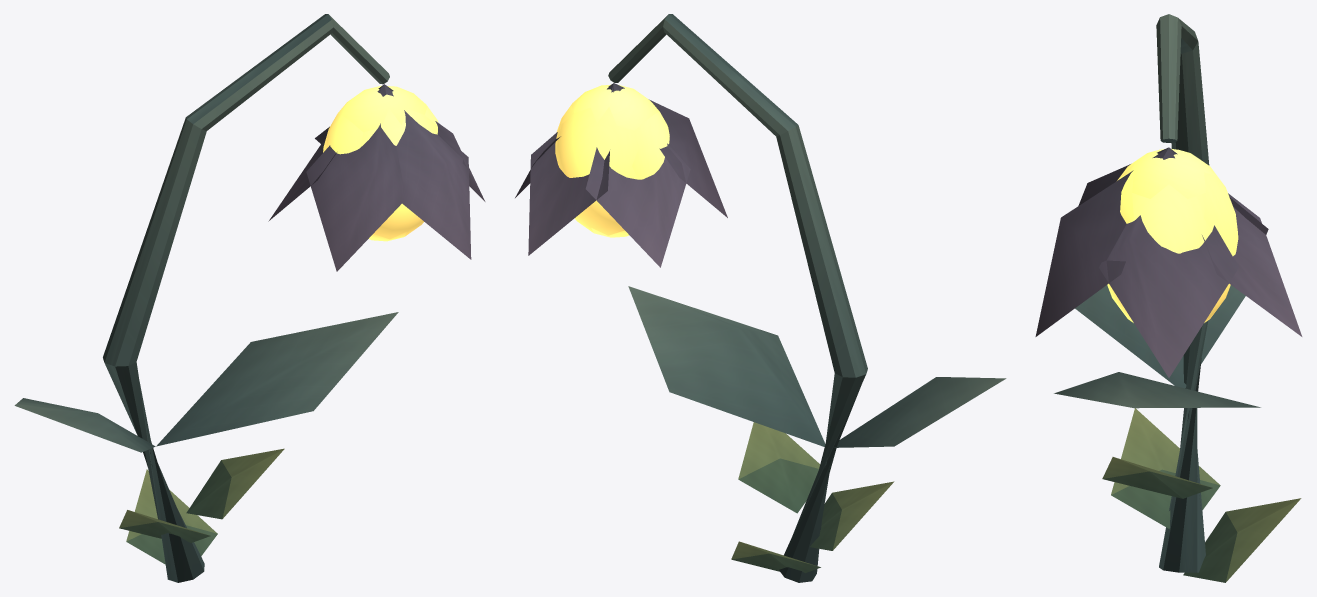
Rendered from forest_lantern_flower.glb.
3 renders of one model, left to right at view 1: azimuth 30°, elevation 25°; view 2: azimuth 150°, elevation 25°; view 3: azimuth 270°, elevation 25°, orthographic. The views are drawn at different scales.
Visible parts, largest first — view 1: Curled lantern flower stem, Lantern flower broad leaf.001, Hanging lilac lantern petal.003, Hanging lilac lantern petal.004, Lantern flower warm heart, Woodland shared curved ivy leaf.014, Lantern flower broad leaf, Woodland shared curved ivy leaf.012, Woodland shared curved ivy leaf.013, Hanging lilac lantern petal.002; view 2: Curled lantern flower stem, Lantern flower broad leaf.001, Lantern flower warm heart, Hanging lilac lantern petal.002, Lantern flower broad leaf, Woodland shared curved ivy leaf.014, Hanging lilac lantern petal.001, Hanging lilac lantern petal.003, Woodland shared curved ivy leaf.013, Woodland shared curved ivy leaf.012; view 3: Hanging lilac lantern petal, Curled lantern flower stem, Lantern flower warm heart, Hanging lilac lantern petal.004, Woodland shared curved ivy leaf.013, Hanging lilac lantern petal.001, Woodland shared curved ivy leaf.012, Lantern flower broad leaf, Lantern flower broad leaf.001, Woodland shared curved ivy leaf.014, Hanging lilac lantern petal.003.
Boxes of the visible parts, x1,y1,x2,y2 form: Curled lantern flower stem: (103, 14, 389, 582); Lantern flower broad leaf.001: (156, 312, 398, 446); Hanging lilac lantern petal.003: (306, 84, 403, 271); Hanging lilac lantern petal.004: (384, 84, 471, 259); Lantern flower warm heart: (323, 85, 438, 241); Woodland shared curved ivy leaf.014: (186, 448, 284, 519); Lantern flower broad leaf: (14, 398, 155, 452); Woodland shared curved ivy leaf.012: (126, 469, 217, 564); Woodland shared curved ivy leaf.013: (119, 510, 210, 543); Hanging lilac lantern petal.002: (268, 86, 382, 221); Curled lantern flower stem: (608, 14, 867, 582); Lantern flower broad leaf.001: (628, 286, 825, 446); Lantern flower warm heart: (555, 84, 669, 237); Hanging lilac lantern petal.002: (585, 83, 690, 267); Lantern flower broad leaf: (834, 377, 1006, 447); Woodland shared curved ivy leaf.014: (738, 422, 820, 513); Hanging lilac lantern petal.001: (528, 83, 613, 255); Hanging lilac lantern petal.003: (614, 83, 727, 217); Woodland shared curved ivy leaf.013: (810, 481, 894, 550); Woodland shared curved ivy leaf.012: (731, 541, 820, 573); Hanging lilac lantern petal: (1099, 148, 1238, 377); Curled lantern flower stem: (1156, 14, 1209, 572); Lantern flower warm heart: (1107, 148, 1238, 322); Hanging lilac lantern petal.004: (1035, 147, 1168, 336); Woodland shared curved ivy leaf.013: (1111, 408, 1220, 528); Hanging lilac lantern petal.001: (1169, 147, 1302, 336); Woodland shared curved ivy leaf.012: (1183, 498, 1301, 582); Lantern flower broad leaf: (1075, 285, 1245, 388); Lantern flower broad leaf.001: (1054, 372, 1260, 408); Woodland shared curved ivy leaf.014: (1102, 457, 1212, 498); Hanging lilac lantern petal.003: (1078, 148, 1167, 205).
Bounding box in the file's own units: 0.96 × 1.01 × 0.3804.
Materials: 5 (5 with a texture image).
